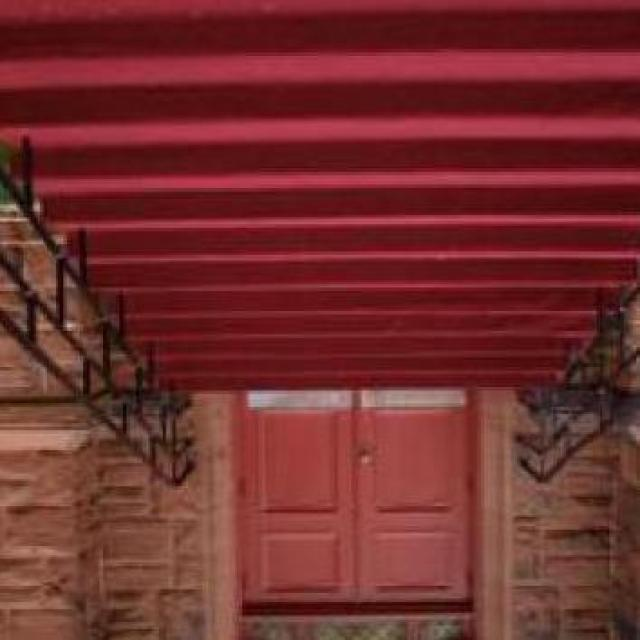Stairs: (0, 0, 640, 378)
